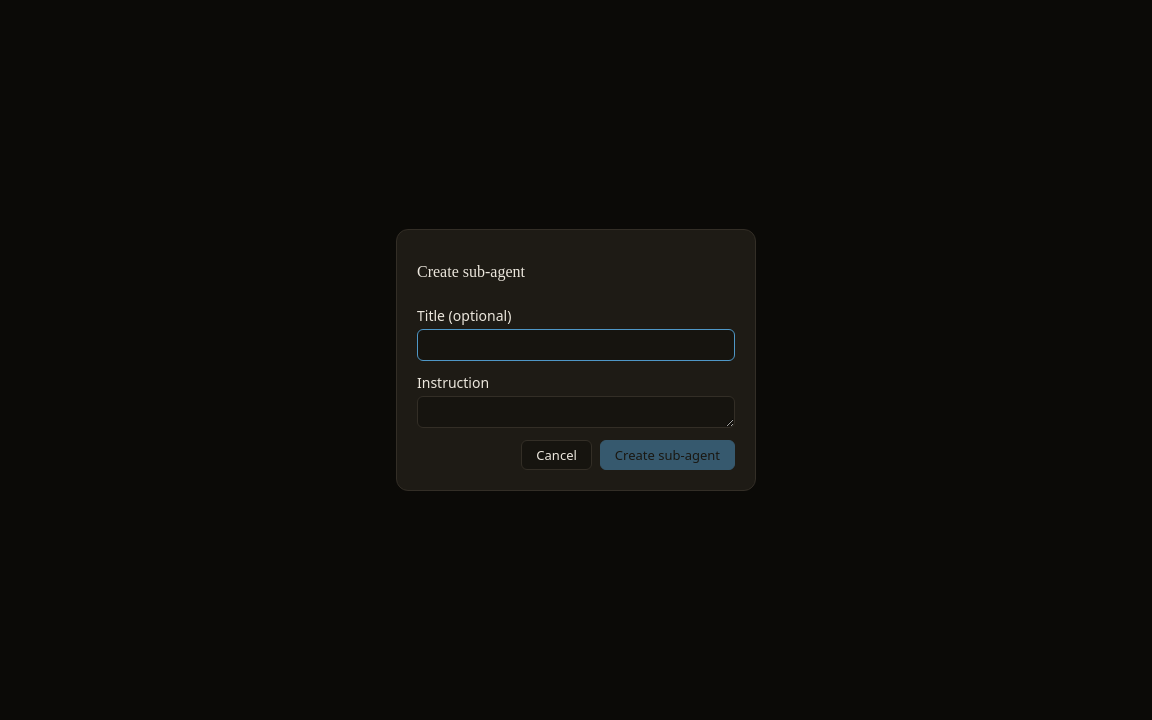
Scenario: reconciles uncertain child creation without leaving a duplicate instruction ready to send
Type "Review the cache" into the text box labelled "Instruction".
click(576, 412); type("Review the cache")  # box [417,396,735,428]
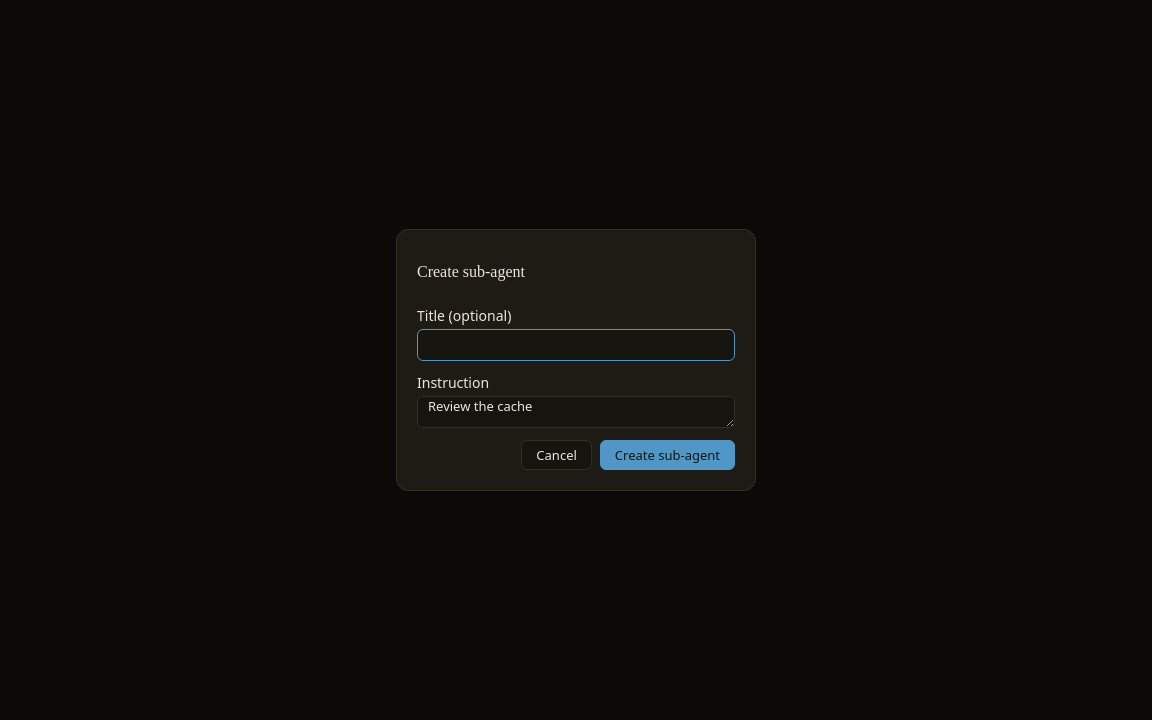
Click the button "Create sub-agent".
click(667, 455)  # box [600,440,735,470]
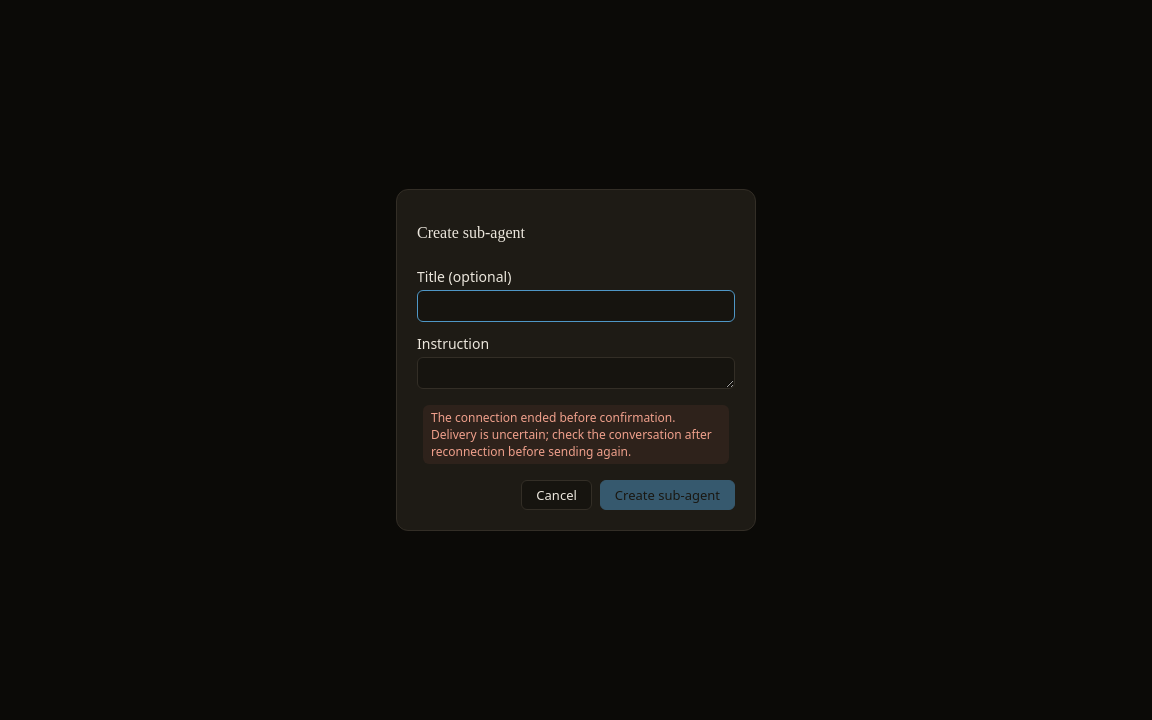
Expected: the message is shown, [423,405,729,464]
Expected: the text box labelled "Instruction" is empty, [417,357,735,389]
Expected: the button "Create sub-agent" is disabled, [600,480,735,510]
